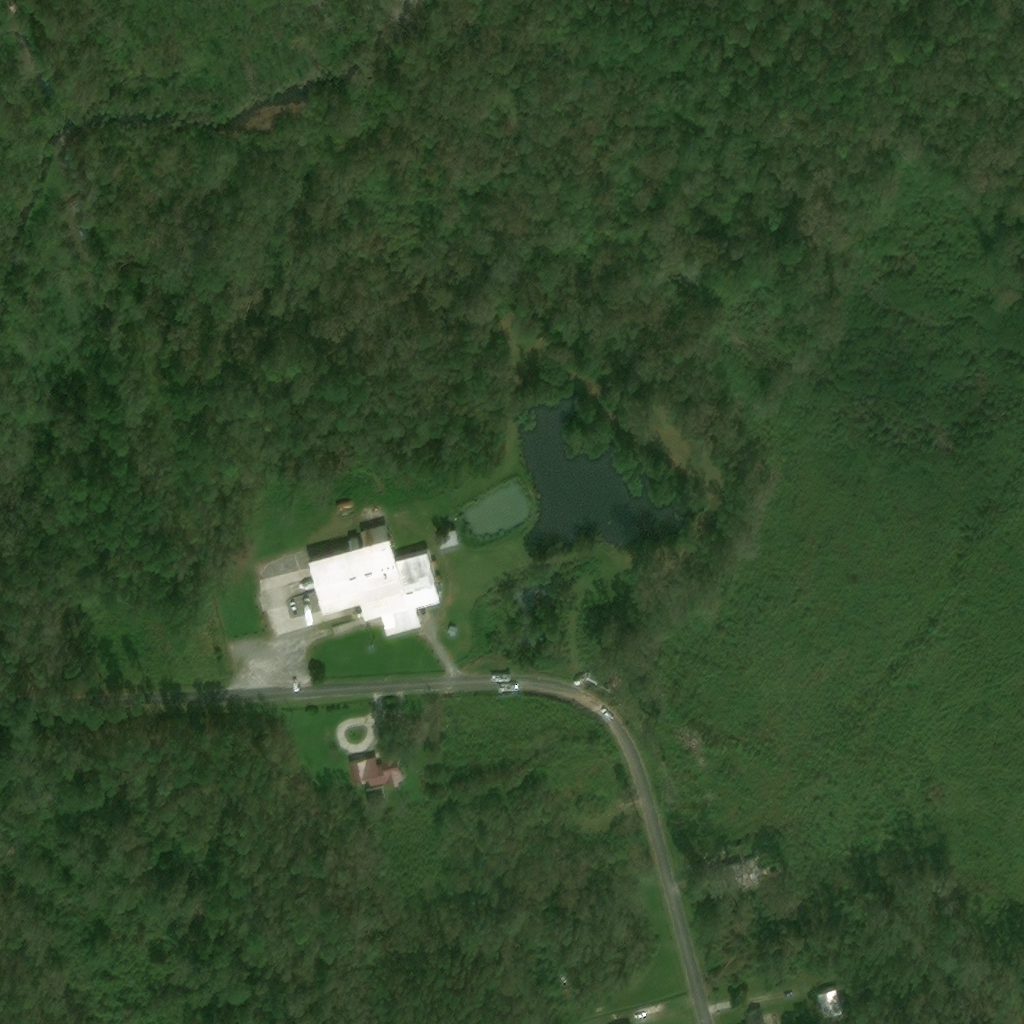no_damage: (302, 536, 443, 638), (349, 746, 404, 791), (717, 856, 770, 896), (815, 990, 843, 1021), (355, 523, 387, 545), (431, 530, 457, 550), (368, 789, 388, 805), (745, 1008, 764, 1023), (444, 627, 457, 641), (343, 536, 356, 548), (335, 502, 351, 511)
